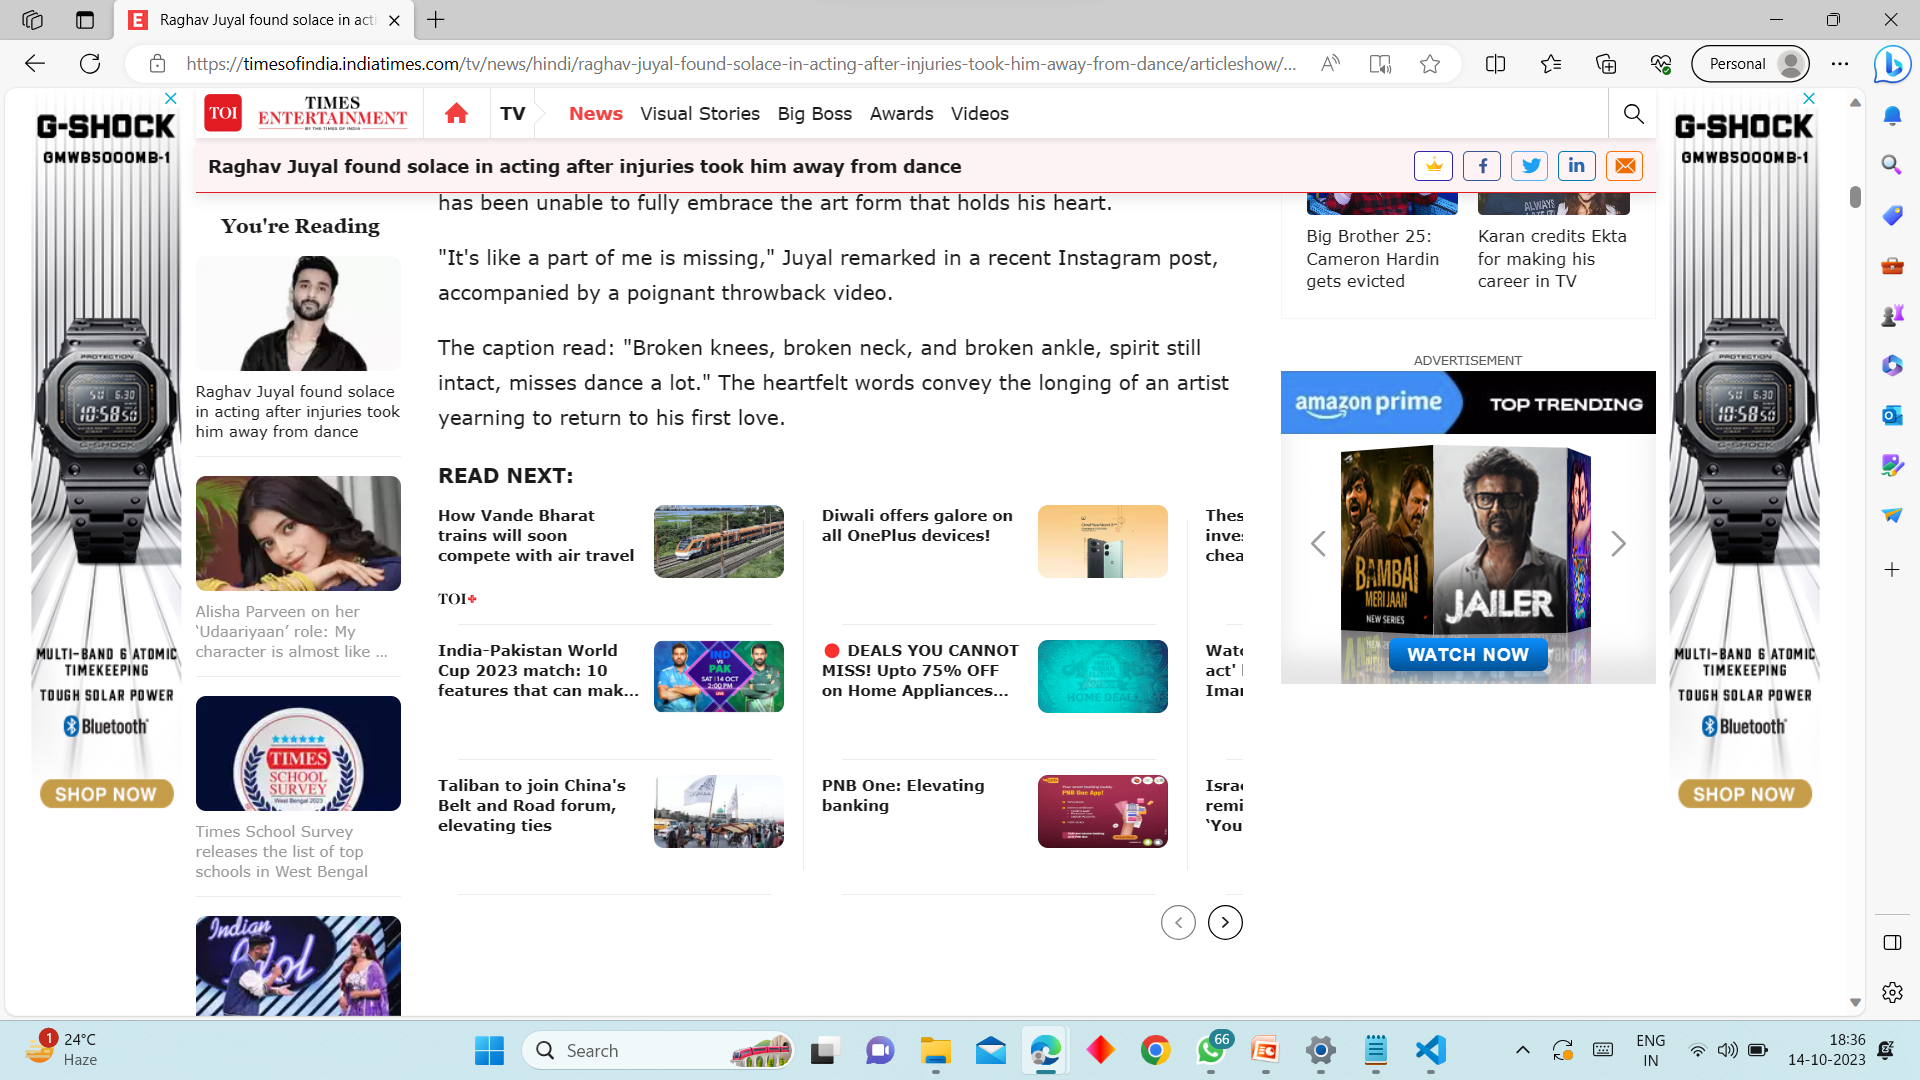Image: (1282, 363, 1655, 682), (1668, 107, 1826, 798), (195, 691, 407, 819), (199, 479, 401, 588), (224, 257, 382, 371), (202, 919, 393, 1002), (653, 767, 791, 856), (655, 636, 787, 716), (1035, 762, 1174, 839), (1038, 505, 1170, 584), (1031, 640, 1172, 713), (653, 504, 782, 582), (203, 92, 239, 136), (444, 92, 469, 129)
Paragraph: (33, 119, 170, 798), (430, 331, 1253, 443), (431, 237, 1234, 315), (206, 145, 975, 186), (440, 190, 1127, 216), (436, 761, 637, 843), (431, 504, 646, 572), (443, 630, 637, 704), (193, 378, 409, 444), (807, 495, 1018, 559), (823, 633, 1018, 700), (196, 601, 401, 665), (1473, 228, 1633, 298), (814, 762, 1000, 820), (1304, 228, 1449, 298), (257, 90, 407, 132), (210, 208, 382, 244), (1193, 765, 1250, 852), (434, 465, 582, 492), (1208, 637, 1257, 709), (1201, 504, 1250, 572), (640, 99, 761, 123), (874, 90, 936, 135), (778, 96, 852, 132), (566, 96, 633, 135), (488, 99, 547, 136), (436, 584, 492, 617), (951, 107, 1019, 125)
